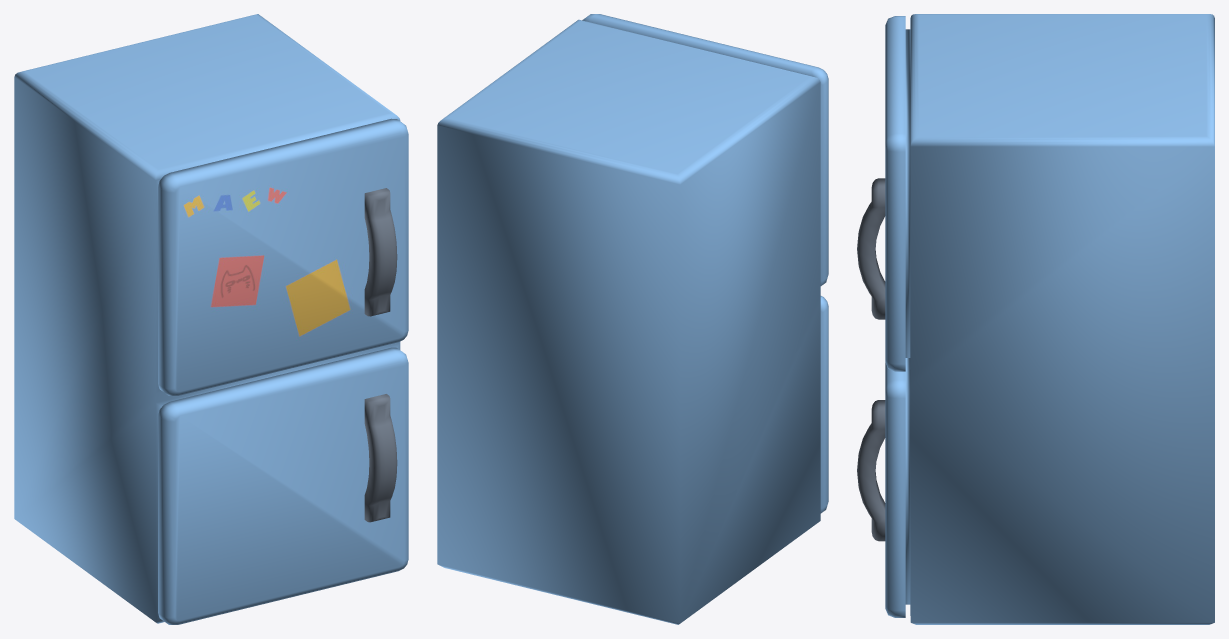
File: Fridge.fbx
3 renders of one model, left to right at view 1: azimuth 30°, elevation 25°; view 2: azimuth 150°, elevation 25°; view 3: azimuth 270°, elevation 25°, orthographic. The views are drawn at different scales.
Visible parts, largest first — view 1: fridge.001, fridge.003, fridge.002; view 2: fridge.001, fridge.002, fridge.003; view 3: fridge.001, fridge.002, fridge.003.
Boxes of the visible parts, box(x1,y1,x2,y2) form: fridge.001: box(14, 14, 400, 623); fridge.003: box(158, 347, 408, 624); fridge.002: box(158, 118, 408, 395); fridge.001: box(437, 19, 820, 624); fridge.002: box(582, 14, 828, 285); fridge.003: box(820, 296, 828, 513); fridge.001: box(905, 14, 1214, 624); fridge.002: box(857, 16, 905, 371); fridge.003: box(857, 363, 905, 617).
Size of the model in its own units: 101 by 178 by 118.
